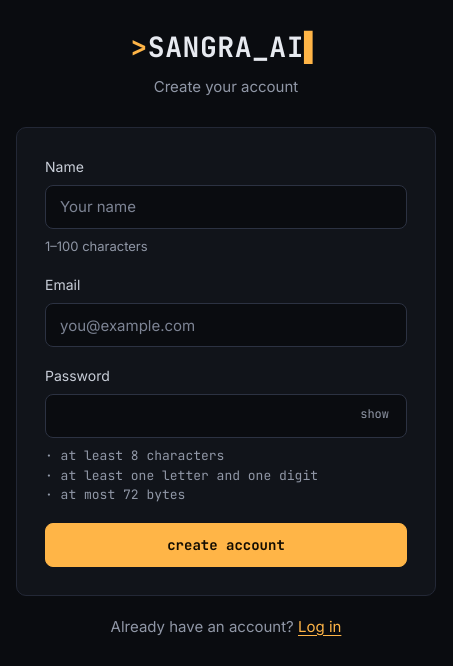
Scenario: register › FE2-F10 / U02: {"name":""} is refused before sending, focus on the field
The image size is (453, 666).
In the field labelled "Email": (226, 325) [45, 303, 407, 347], type "sangram@example.com"
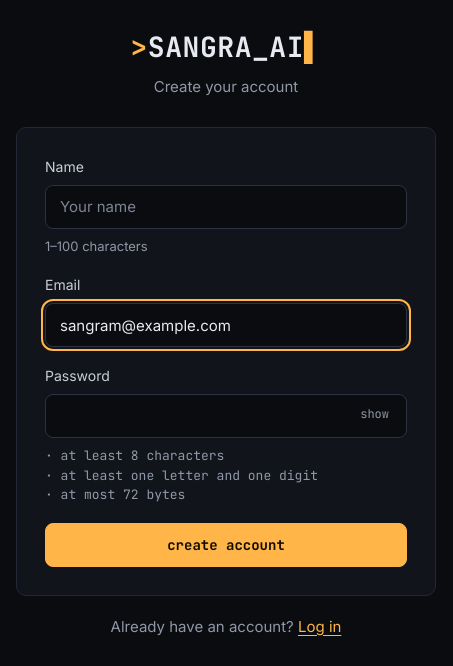
In the password field labelled "Password": (226, 416) [45, 394, 407, 438], type "Str0ng-pass"
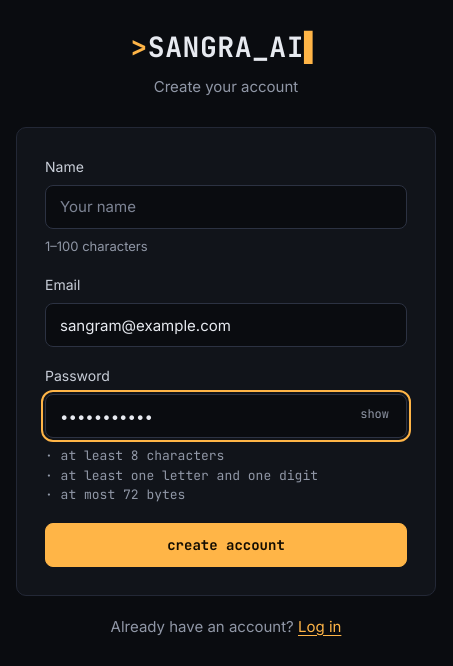
Click the button "create account": (226, 544) [45, 522, 407, 566]
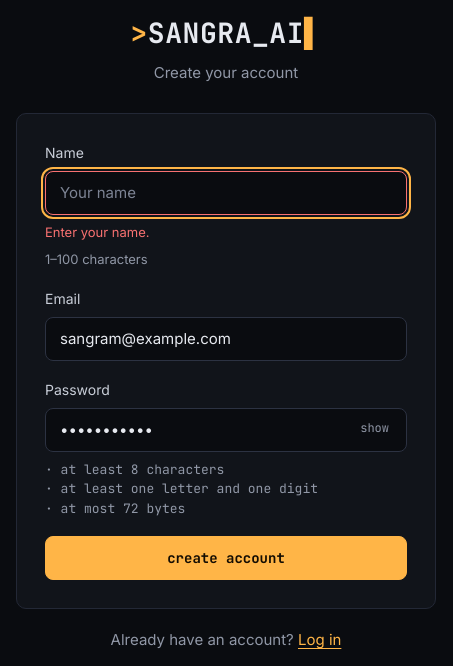
Result: the text "Enter your name." is shown at [45, 224, 150, 240]
